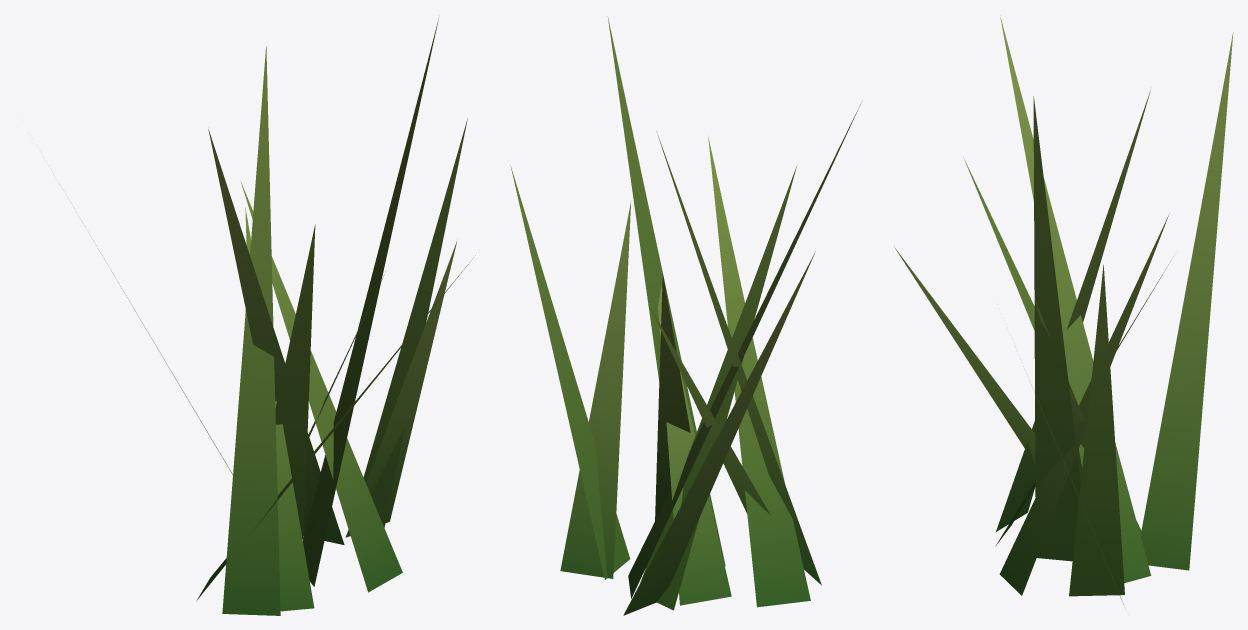
File: env_grass_lush.glb
The picture shows the model from 3 angles, left to right: view 1: azimuth 30°, elevation 25°; view 2: azimuth 150°, elevation 25°; view 3: azimuth 270°, elevation 25°; orthographic projection. The views are drawn at different scales.
Parts seen in each view (by area): view 1: env_grass_lush; view 2: env_grass_lush; view 3: env_grass_lush.
Boxes of the visible parts, bbox=[...] form: env_grass_lush: bbox=[43, 18, 475, 615]; env_grass_lush: bbox=[510, 16, 860, 615]; env_grass_lush: bbox=[894, 15, 1233, 604].
Bounding box in the file's own units: 0.6109 × 0.8213 × 0.4857.
